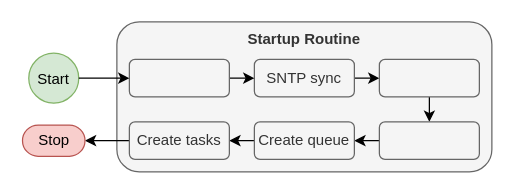
Image size: 514x194. Some labels were removed from this diagram. Each missing label, with the box of its shape:
Connect to MQTT Broker: (378, 58, 479, 97)
Connect to WiFi: (128, 58, 229, 97)
Init ADC Manager: (378, 121, 479, 159)
